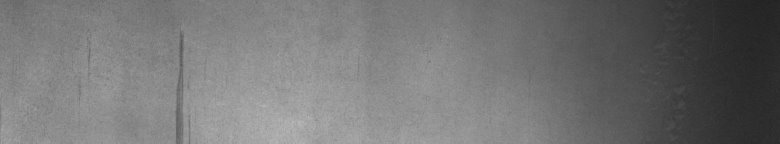hd: (172, 32, 192, 136)
